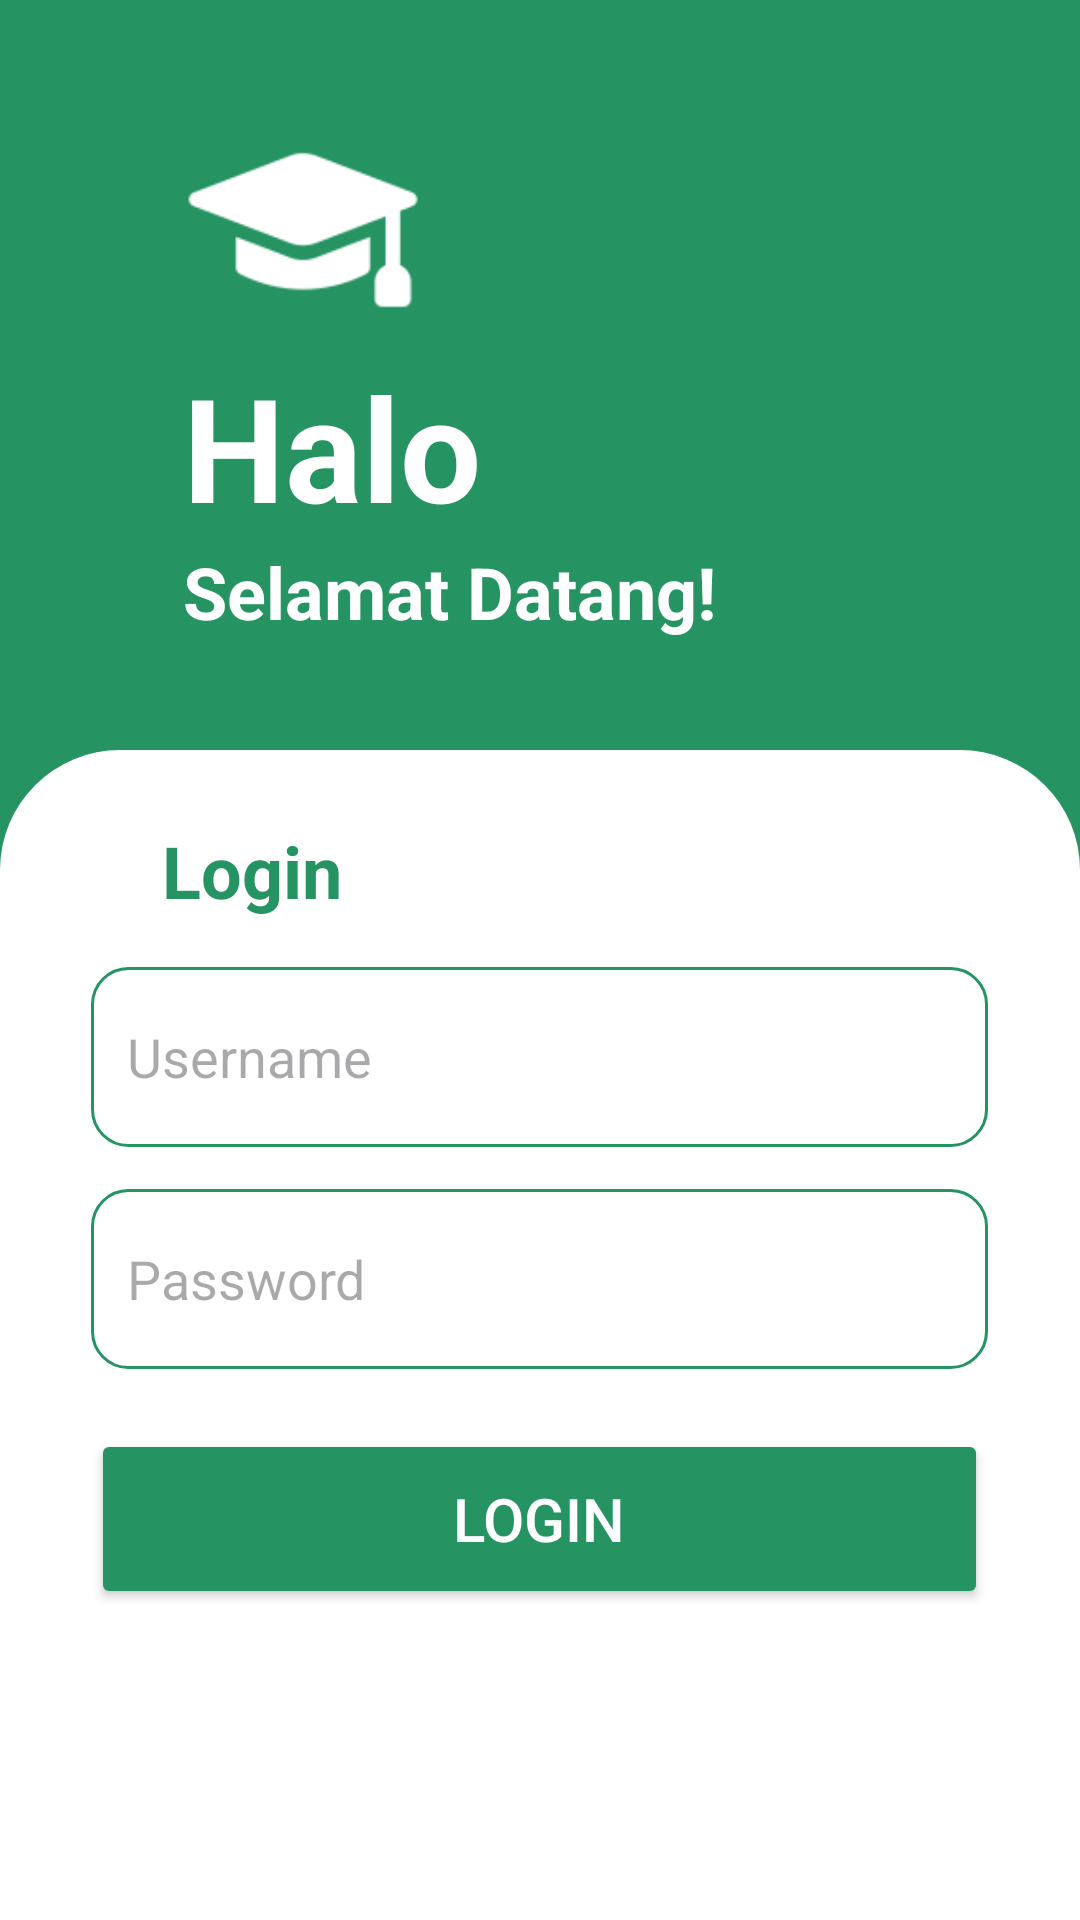

Named icons in this screenshot (1080*1920) and their bounding boxes, (x1,y1,x2,y2):
icon toga: (188,152,418,308)
